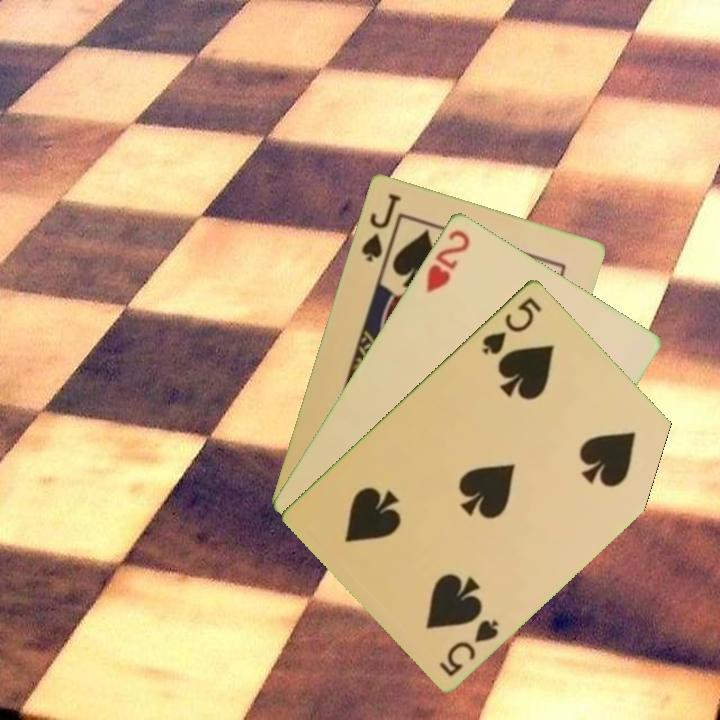2h: (422, 225, 473, 296)
5s: (435, 615, 502, 679), (479, 293, 545, 357)
Js: (357, 189, 404, 265)
